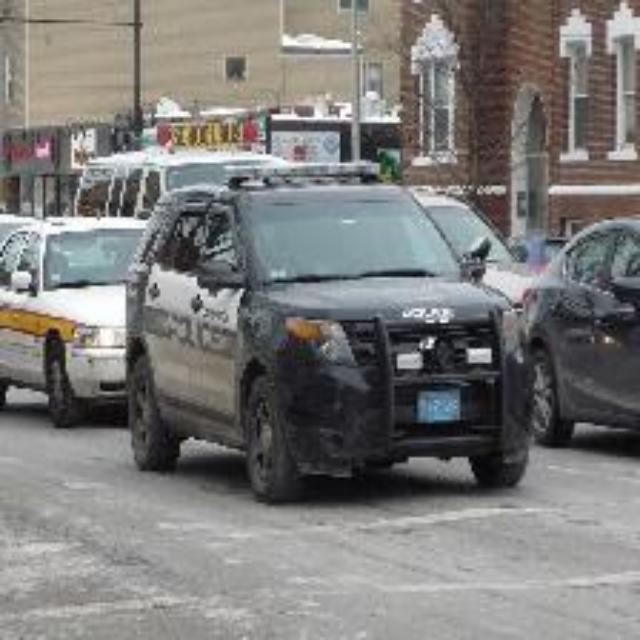emergency: (136, 167, 550, 518), (5, 214, 227, 432)
